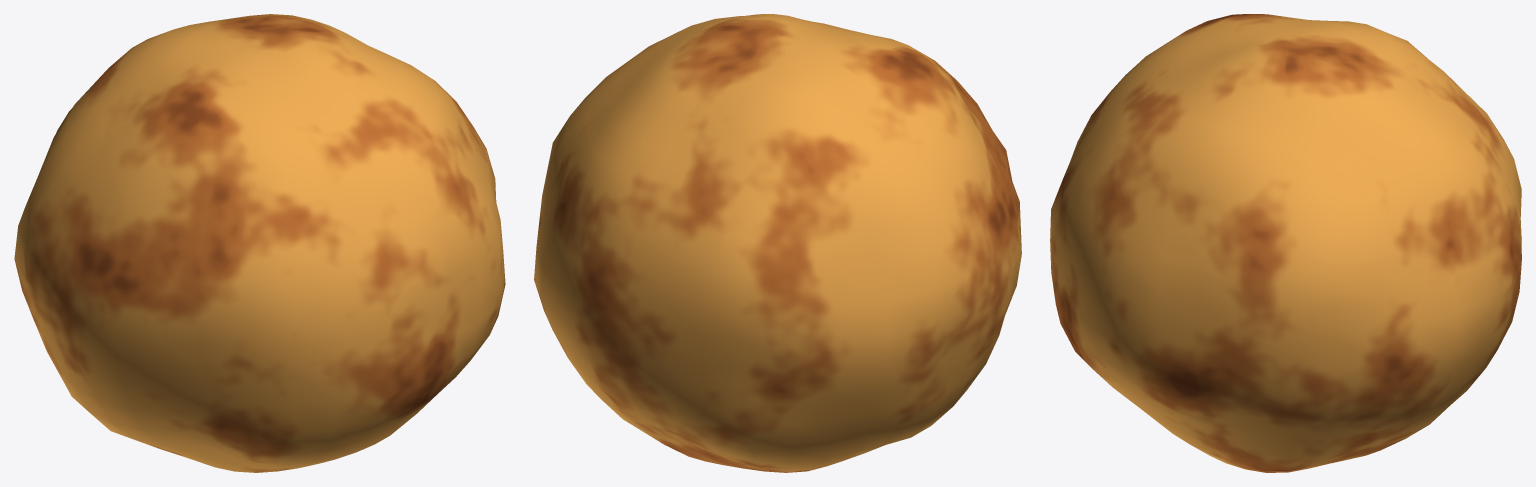
Rendered from Takoyaki_Ball.fbx.
3 views of the same model, side by side, from view 1: azimuth 30°, elevation 25°; view 2: azimuth 150°, elevation 25°; view 3: azimuth 270°, elevation 25° (orthographic). The views are drawn at different scales.
Visible parts, largest first — view 1: Takoyaki_Ball; view 2: Takoyaki_Ball; view 3: Takoyaki_Ball.
Part boxes in pixels (x1,y1,x2,y2): Takoyaki_Ball: (14,14,505,472); Takoyaki_Ball: (534,14,1021,472); Takoyaki_Ball: (1050,14,1521,472).
Bounding box in the file's own units: 0.0418 × 0.0381 × 0.0406.
Materials: 1 (1 with a texture image).
